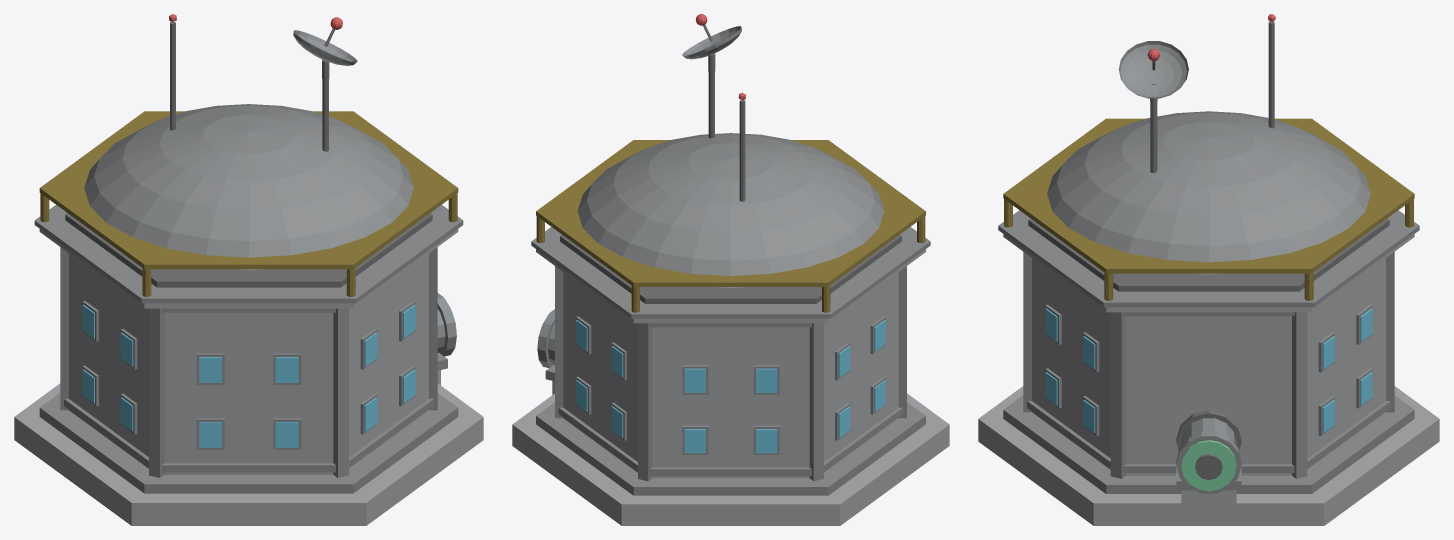
The model's file is analysis_center_s2_50.glb.
The picture shows the model from 3 angles, left to right: view 1: azimuth 30°, elevation 25°; view 2: azimuth 150°, elevation 25°; view 3: azimuth 270°, elevation 25°; orthographic projection. The views are drawn at different scales.
Parts seen in each view (by area): view 1: AC_Walls, AC_Dome, AC_Base, AC_Gallery_Rail, AC_BaseCap, AC_Gallery_Trim, AC_Dome_Base_Trim, AC_Band_Low, AC_Beam_3, AC_Beam_4, AC_Gallery_Base, AC_Beam_2 (+9 smaller); view 2: AC_Walls, AC_Dome, AC_Base, AC_Gallery_Rail, AC_BaseCap, AC_Gallery_Trim, AC_Dome_Base_Trim, AC_Band_Low, AC_Beam_1, AC_Beam_2, AC_Gallery_Base, AC_Beam_0 (+9 smaller); view 3: AC_Walls, AC_Dome, AC_Base, AC_Gallery_Rail, AC_Gallery_Trim, AC_BaseCap, AC_Dome_Base_Trim, AC_Dish, AC_Band_Low, AC_Beam_0, AC_Beam_5, AC_Gallery_Base (+11 smaller).
Part boxes in pixels (left/top/right/bottom): AC_Walls: left=69, top=253, right=428, bottom=474; AC_Dome: left=84, top=104, right=413, bottom=270; AC_Base: left=14, top=383, right=483, bottom=525; AC_Gallery_Rail: left=39, top=111, right=458, bottom=269; AC_BaseCap: left=39, top=393, right=458, bottom=493; AC_Gallery_Trim: left=34, top=205, right=463, bottom=303; AC_Dome_Base_Trim: left=65, top=213, right=432, bottom=287; AC_Band_Low: left=64, top=398, right=433, bottom=472; AC_Beam_3: left=149, top=308, right=164, bottom=477; AC_Beam_4: left=333, top=308, right=348, bottom=477; AC_Gallery_Base: left=39, top=229, right=458, bottom=308; AC_Beam_2: left=60, top=247, right=68, bottom=410; AC_Walls: left=563, top=272, right=898, bottom=478; AC_Dome: left=577, top=133, right=884, bottom=287; AC_Base: left=512, top=393, right=949, bottom=525; AC_Gallery_Rail: left=536, top=140, right=925, bottom=286; AC_BaseCap: left=536, top=402, right=925, bottom=495; AC_Gallery_Trim: left=531, top=227, right=930, bottom=318; AC_Dome_Base_Trim: left=560, top=235, right=901, bottom=303; AC_Band_Low: left=558, top=407, right=903, bottom=475; AC_Beam_1: left=638, top=323, right=652, bottom=481; AC_Beam_2: left=809, top=323, right=823, bottom=481; AC_Gallery_Base: left=536, top=249, right=925, bottom=323; AC_Beam_0: left=555, top=266, right=563, bottom=418; AC_Walls: left=1032, top=258, right=1385, bottom=475; AC_Dome: left=1047, top=111, right=1370, bottom=274; AC_Base: left=978, top=386, right=1439, bottom=525; AC_Gallery_Rail: left=1003, top=118, right=1414, bottom=273; AC_Gallery_Trim: left=998, top=210, right=1419, bottom=307; AC_BaseCap: left=1003, top=395, right=1414, bottom=493; AC_Dome_Base_Trim: left=1028, top=218, right=1389, bottom=291; AC_Dish: left=1118, top=41, right=1188, bottom=98; AC_Band_Low: left=1027, top=401, right=1390, bottom=472; AC_Beam_0: left=1292, top=312, right=1307, bottom=478; AC_Beam_5: left=1110, top=312, right=1125, bottom=478; AC_Gallery_Base: left=1003, top=234, right=1414, bottom=312.
Size of the model in its own units: 1.69 by 1.85 by 1.84.
